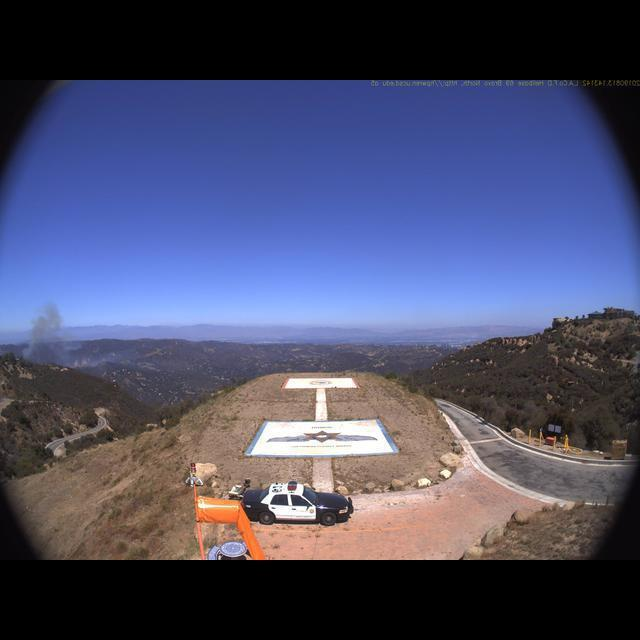Smoke: (18, 299, 91, 375)
